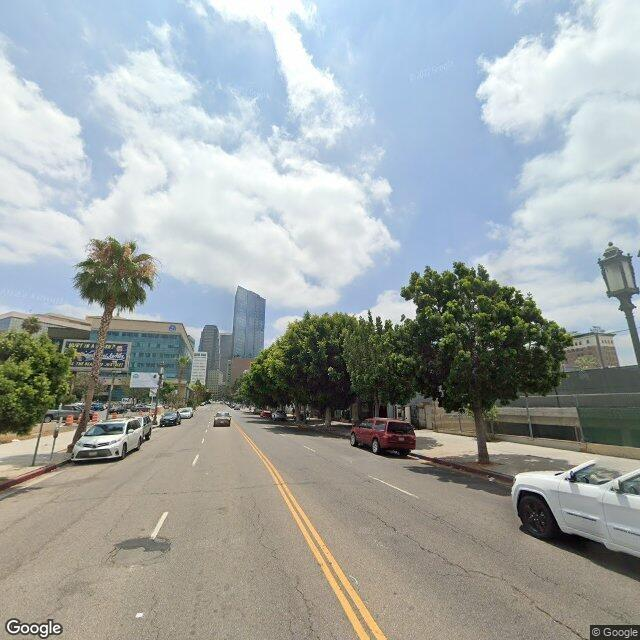pothole: (111, 536, 169, 567)
